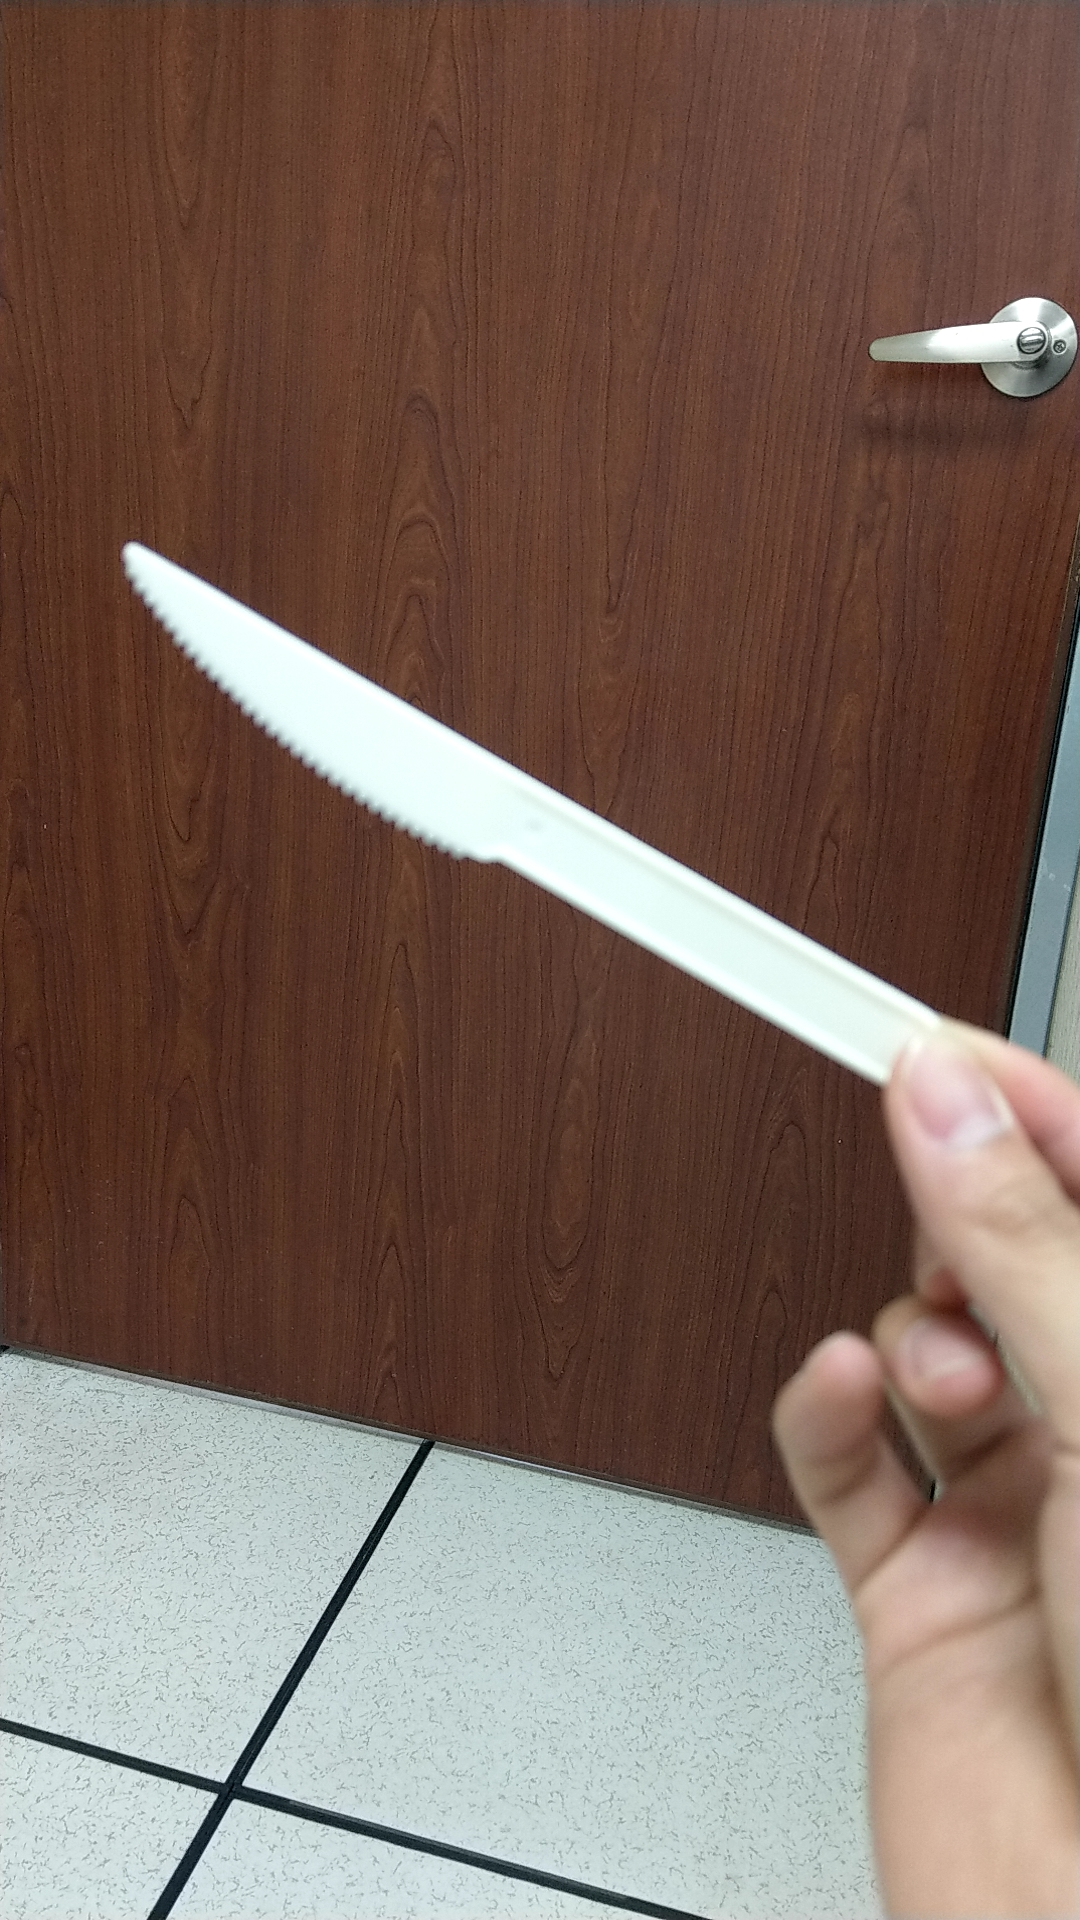knife: (100, 497, 922, 1147)
